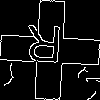R: (25, 25, 63, 72)
